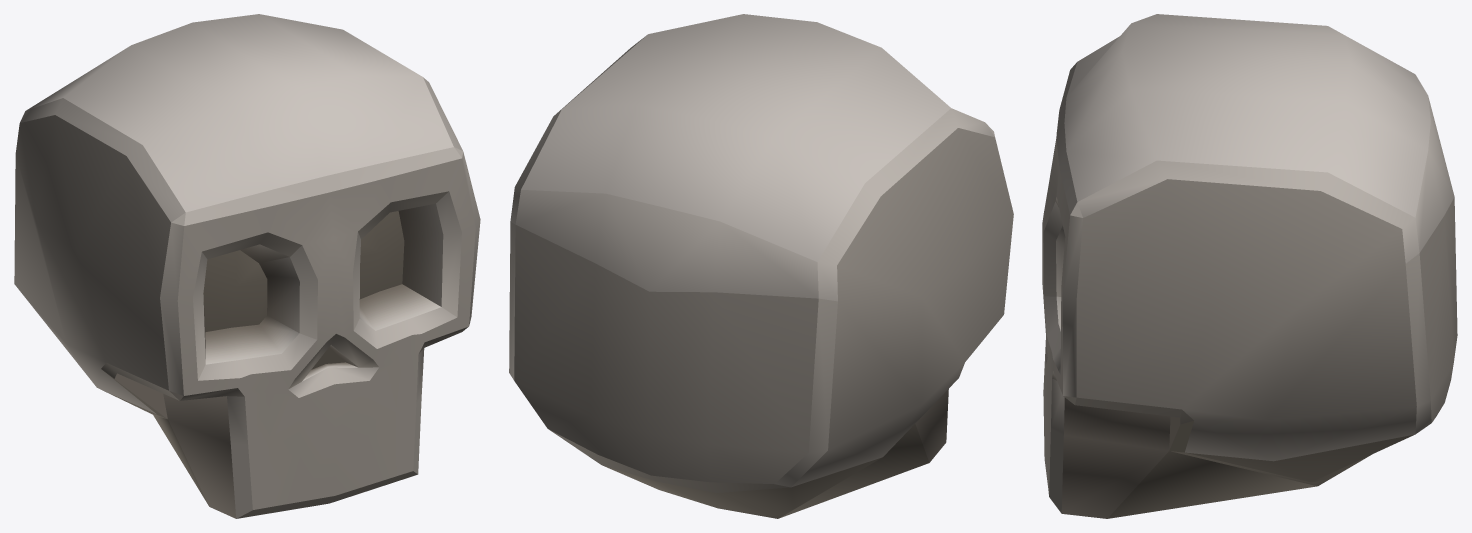
File: m_deco_skullStatueA.FBX
3 renders of one model, left to right at view 1: azimuth 30°, elevation 25°; view 2: azimuth 150°, elevation 25°; view 3: azimuth 270°, elevation 25°, orthographic. The views are drawn at different scales.
Parts seen in each view (by area): view 1: m_deco_skullStatueA; view 2: m_deco_skullStatueA; view 3: m_deco_skullStatueA.
Part boxes in pixels (x1,y1,x2,y2): m_deco_skullStatueA: [14, 14, 480, 518]; m_deco_skullStatueA: [509, 14, 1013, 518]; m_deco_skullStatueA: [1042, 14, 1457, 518].
Size of the model in its own units: 2.1 by 2.22 by 1.96.
